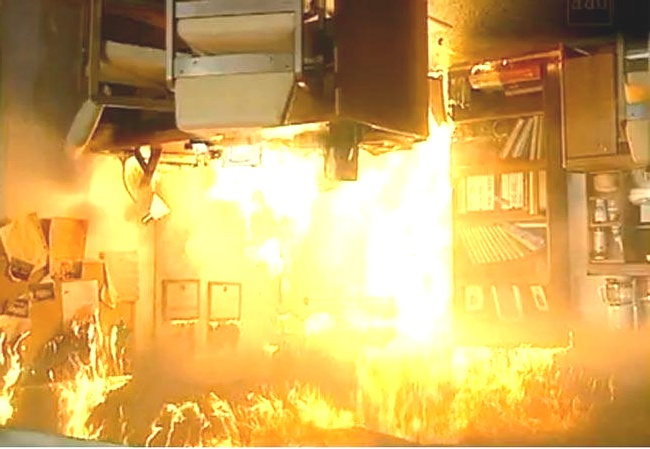fire: (0, 122, 614, 449)
